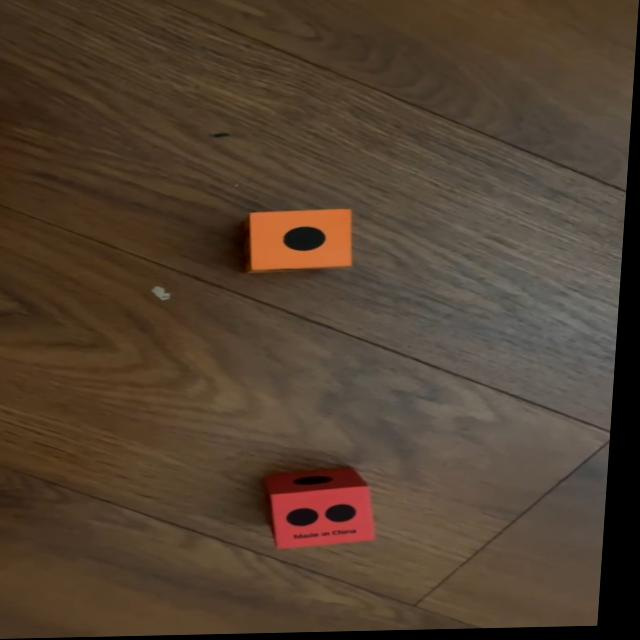cube: (266, 470, 389, 550)
